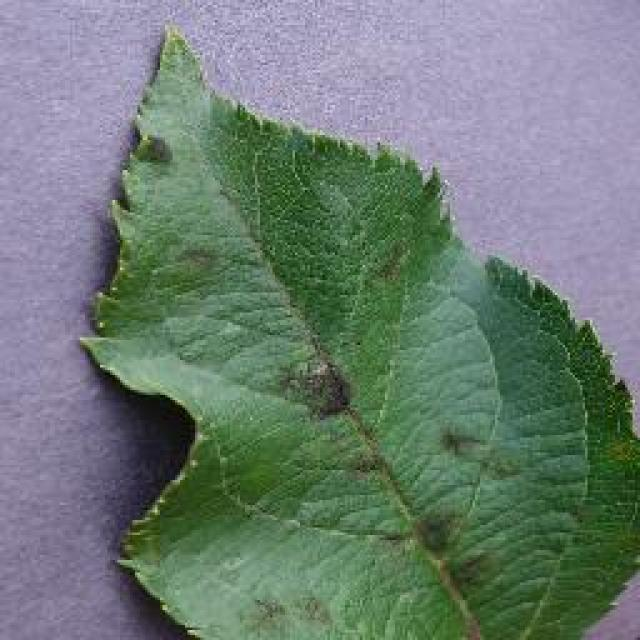apple scab disease: (78, 20, 638, 638)
